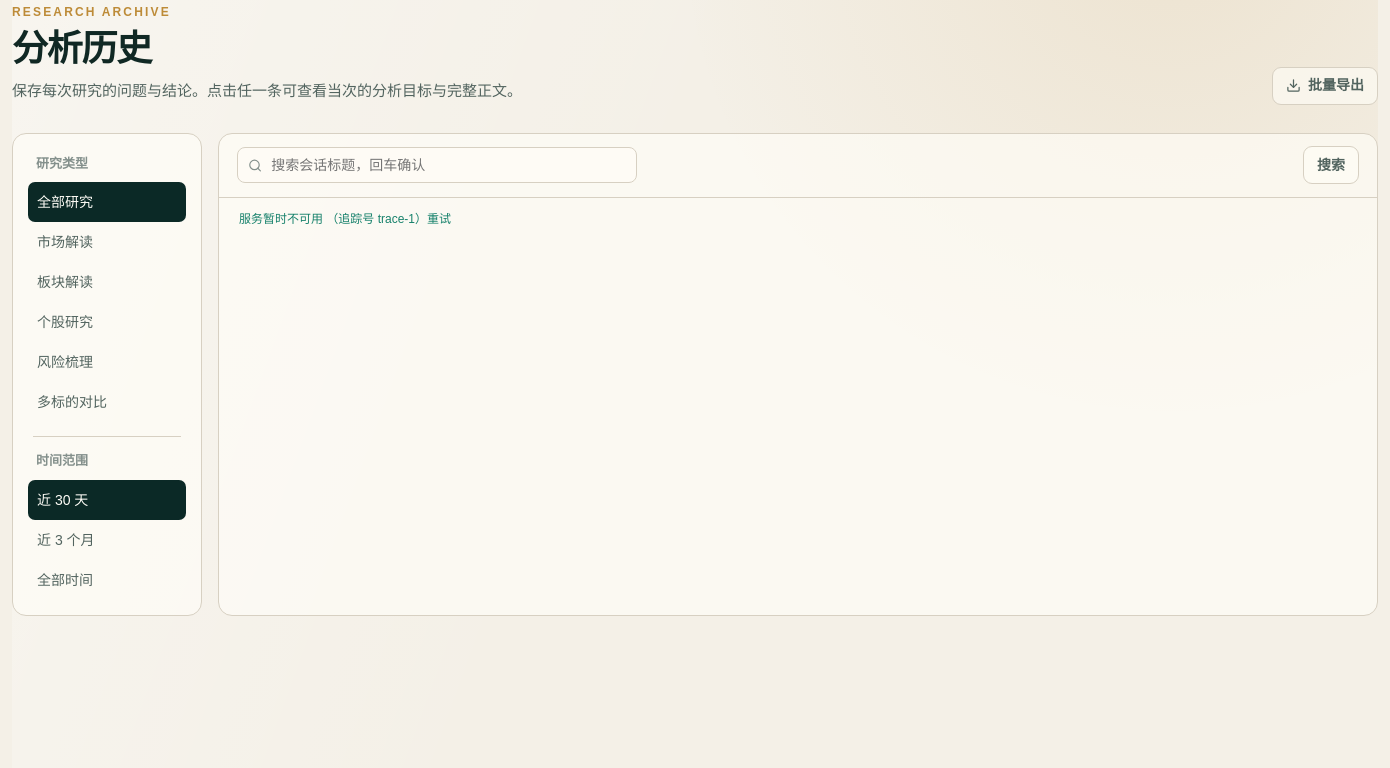
Test: 分析历史页 › 列表失败时给出后端文案与追踪号，并可重试
Click the button with class "link-button" at (439, 219), box [427,210,451,229]
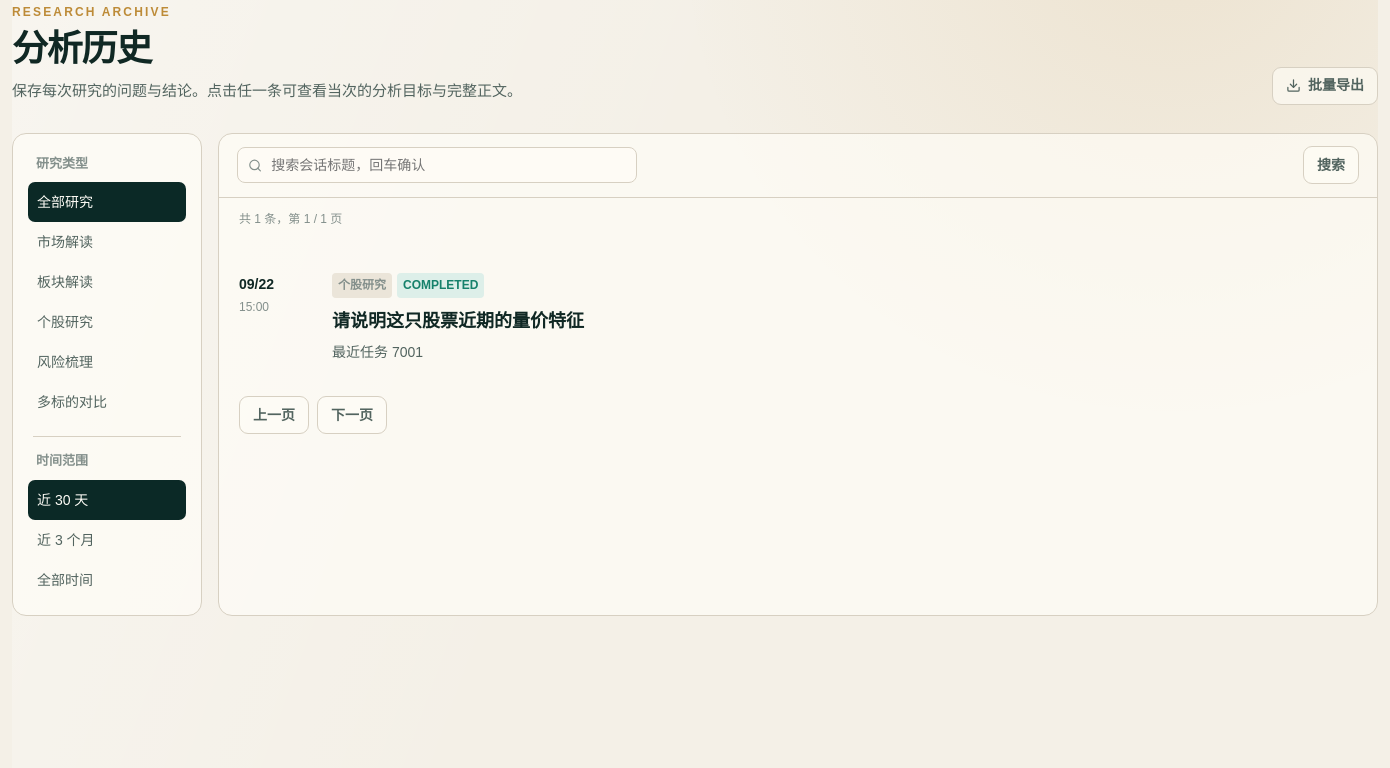
Expected: the text "请说明这只股票近期的量价特征" is shown, [332,307,584,336]
